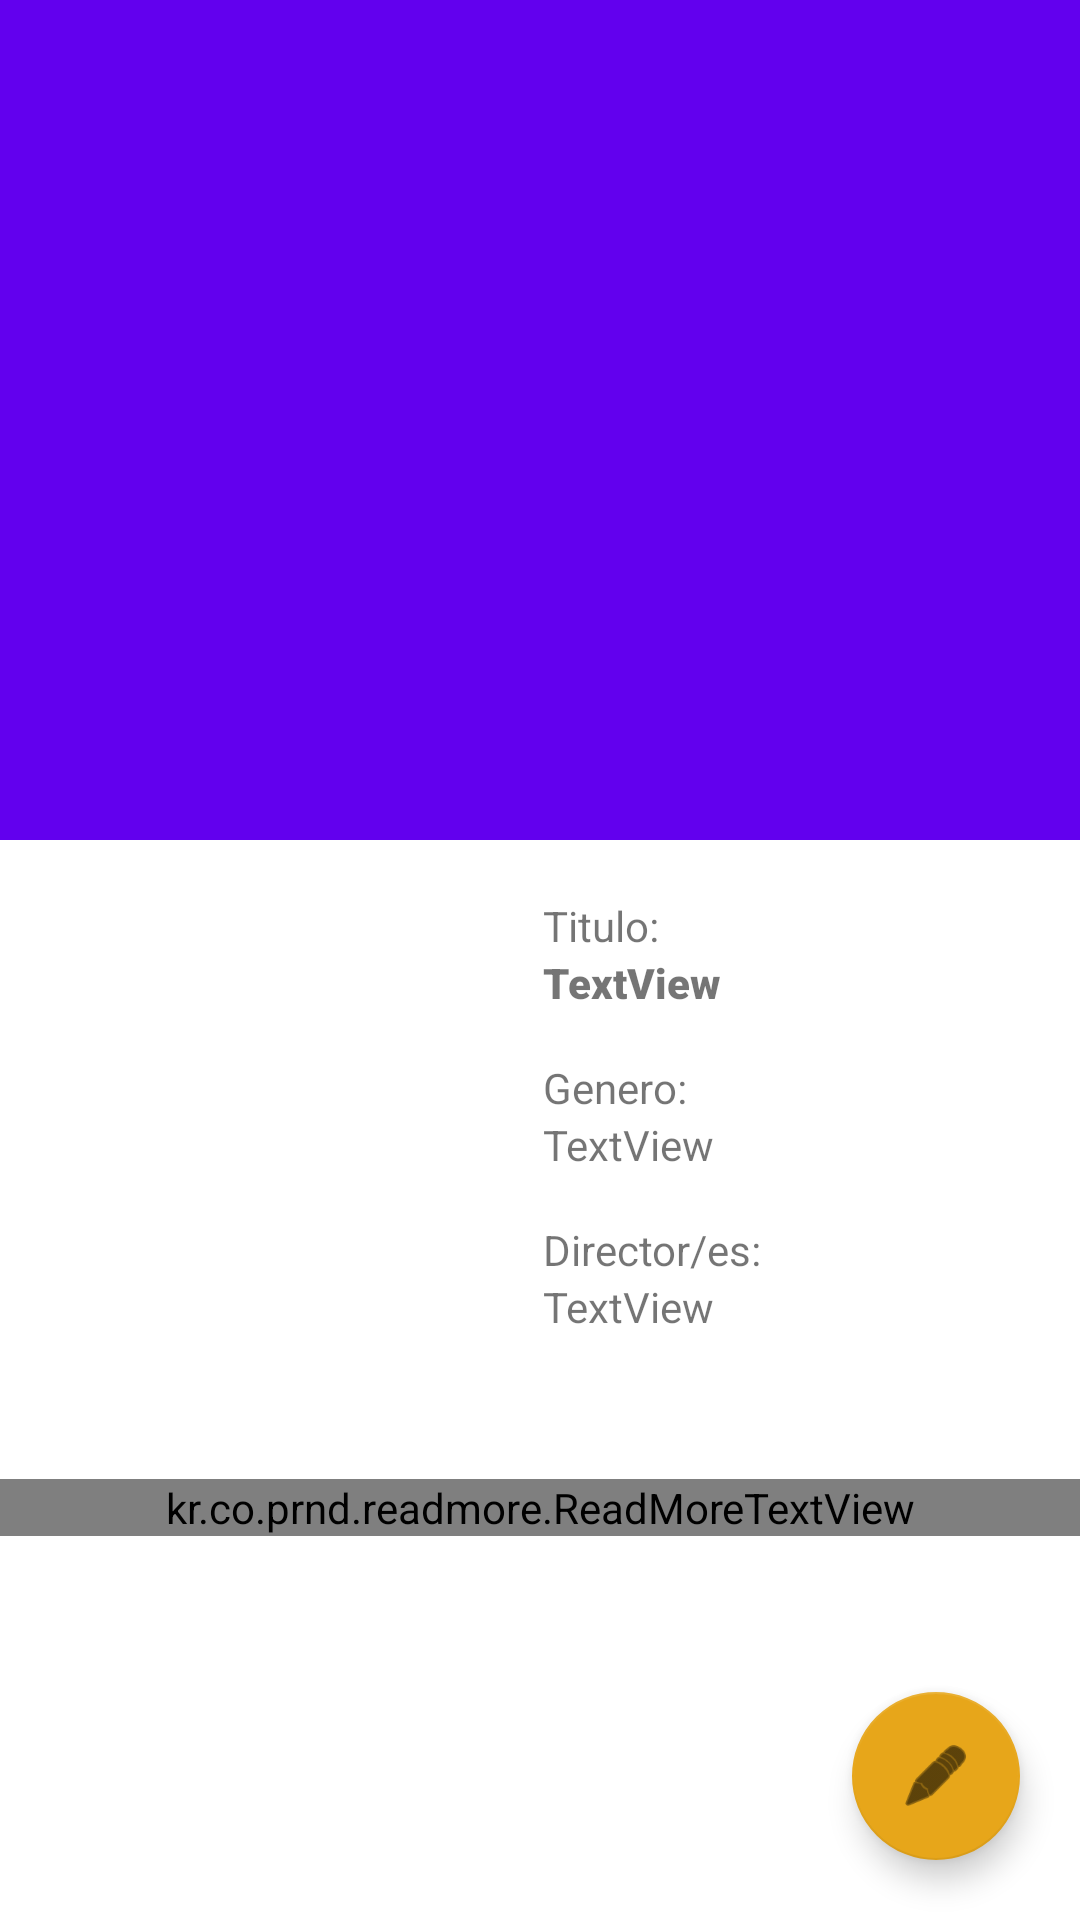

Where to tap for icons on this 1080×1920 app screen, as (x,y):
edit: (936,1776)
